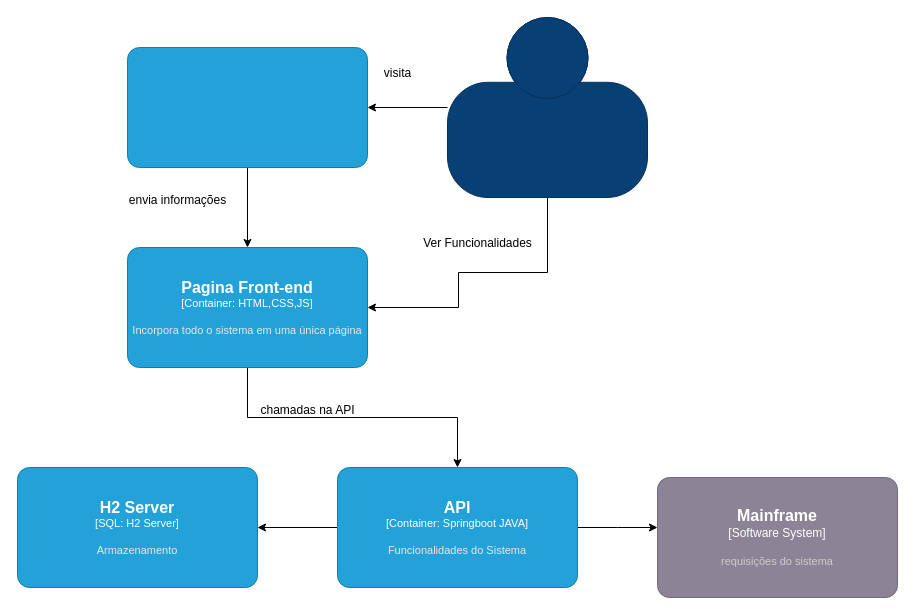
The diagram is 915 pixels wide and 615 high, and some of its shapes have lost their labels. Each missing label, with the centre of its shape:
Aplicação Web [Container: SpringBoot, JAVA] sistema de listar tarefas: (x=247, y=107)
usuario [Person] usuario crie edita e deleta tarefa: (x=547, y=107)
